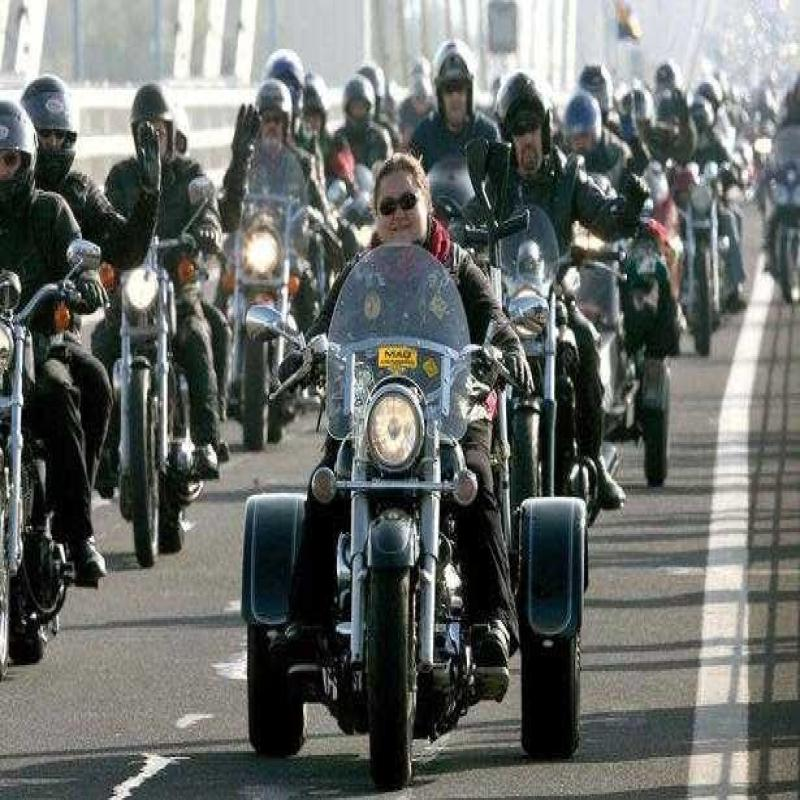bike: (0, 239, 89, 719), (108, 211, 210, 565), (223, 136, 322, 472)
